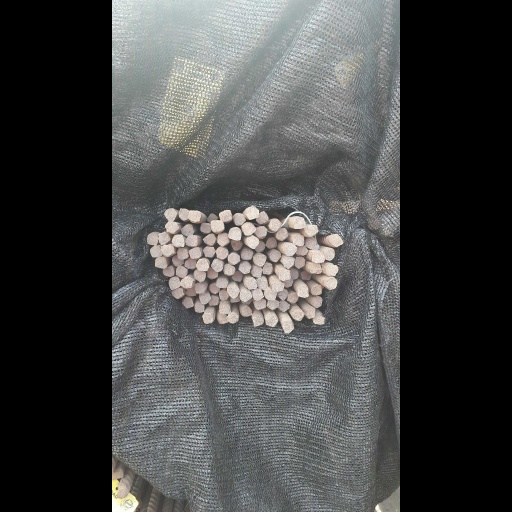dipstick: (384, 233, 410, 246), (342, 223, 367, 236), (206, 227, 231, 240), (350, 262, 374, 275), (175, 220, 199, 233), (106, 234, 129, 247), (354, 251, 378, 263), (160, 246, 184, 258), (160, 233, 184, 245), (94, 221, 118, 233), (65, 245, 89, 257), (148, 259, 172, 271), (238, 206, 260, 219), (231, 222, 253, 235), (99, 276, 121, 289), (280, 249, 300, 263), (239, 235, 259, 249), (270, 287, 293, 299), (189, 209, 212, 221), (88, 244, 111, 256), (343, 237, 368, 248), (358, 313, 379, 326), (255, 226, 276, 239), (187, 233, 208, 246), (377, 277, 401, 288), (354, 296, 376, 308), (215, 213, 237, 225), (184, 247, 206, 259), (136, 210, 158, 222), (380, 263, 400, 276), (228, 288, 248, 301), (205, 253, 228, 264), (104, 255, 127, 266), (377, 247, 395, 261), (206, 285, 227, 297), (256, 212, 277, 224), (176, 259, 197, 271), (81, 232, 102, 244), (144, 269, 165, 281), (112, 266, 133, 278), (321, 217, 343, 228), (114, 247, 136, 258), (136, 247, 158, 258), (121, 277, 143, 288), (106, 288, 128, 299), (308, 243, 328, 255), (304, 321, 324, 333), (275, 315, 295, 327), (248, 314, 268, 326), (256, 277, 276, 289), (267, 262, 287, 274), (253, 254, 273, 266), (236, 277, 256, 289), (160, 312, 180, 324), (198, 264, 218, 276), (92, 209, 112, 221), (325, 255, 343, 268), (304, 255, 322, 268), (118, 208, 136, 221), (275, 299, 296, 310), (186, 313, 207, 324), (184, 278, 205, 289), (225, 263, 246, 274), (211, 239, 232, 250), (155, 222, 176, 233), (130, 235, 151, 246), (123, 297, 144, 308), (331, 286, 350, 298), (321, 233, 340, 245), (62, 233, 81, 245), (145, 281, 164, 293), (353, 284, 373, 295), (321, 310, 341, 321), (296, 301, 316, 312), (292, 229, 312, 240), (280, 219, 300, 230), (247, 266, 267, 277), (212, 271, 232, 282), (122, 225, 144, 235), (75, 258, 97, 268), (128, 258, 148, 269), (168, 268, 186, 280), (88, 267, 112, 276), (252, 299, 273, 309), (249, 289, 270, 299), (230, 250, 249, 261), (145, 302, 164, 313), (344, 307, 361, 319), (191, 305, 211, 315), (312, 292, 330, 303), (299, 269, 317, 280), (335, 270, 354, 280), (328, 245, 347, 255), (275, 237, 294, 247), (228, 306, 247, 316), (205, 313, 224, 323), (188, 290, 207, 300), (172, 283, 191, 293), (171, 295, 188, 306), (157, 293, 174, 304), (303, 278, 321, 288), (294, 289, 312, 299), (256, 241, 272, 252), (168, 213, 187, 222), (132, 287, 149, 297), (317, 268, 331, 280), (286, 282, 304, 291), (209, 295, 227, 303), (228, 298, 248, 305)
